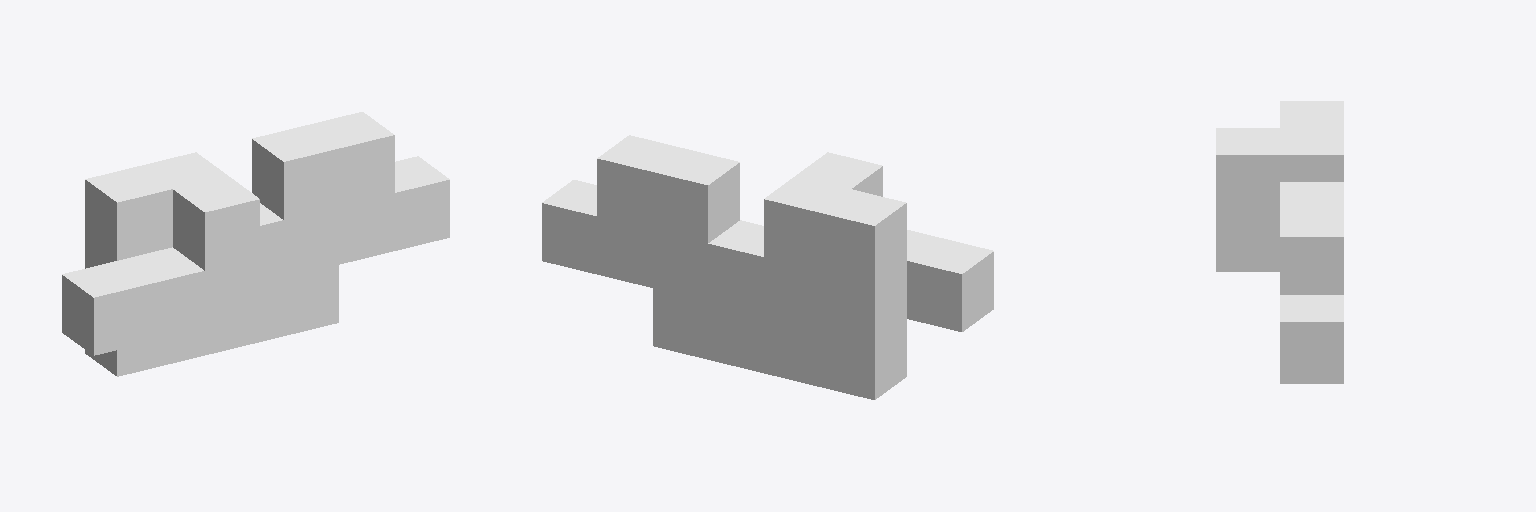
File: YellowHouseParts-107.obj
3 views of the same model, side by side, from view 1: azimuth 30°, elevation 25°; view 2: azimuth 150°, elevation 25°; view 3: azimuth 270°, elevation 25° (orthographic).
Visible parts, largest first — view 1: object 1; view 2: object 1; view 3: object 1.
Boxes of the visible parts, <box> form: object 1: <box>62,112,449,376</box>; object 1: <box>542,135,993,399</box>; object 1: <box>1216,101,1343,383</box>.
Bounding box in the file's own units: 0.7 × 0.3 × 0.2.